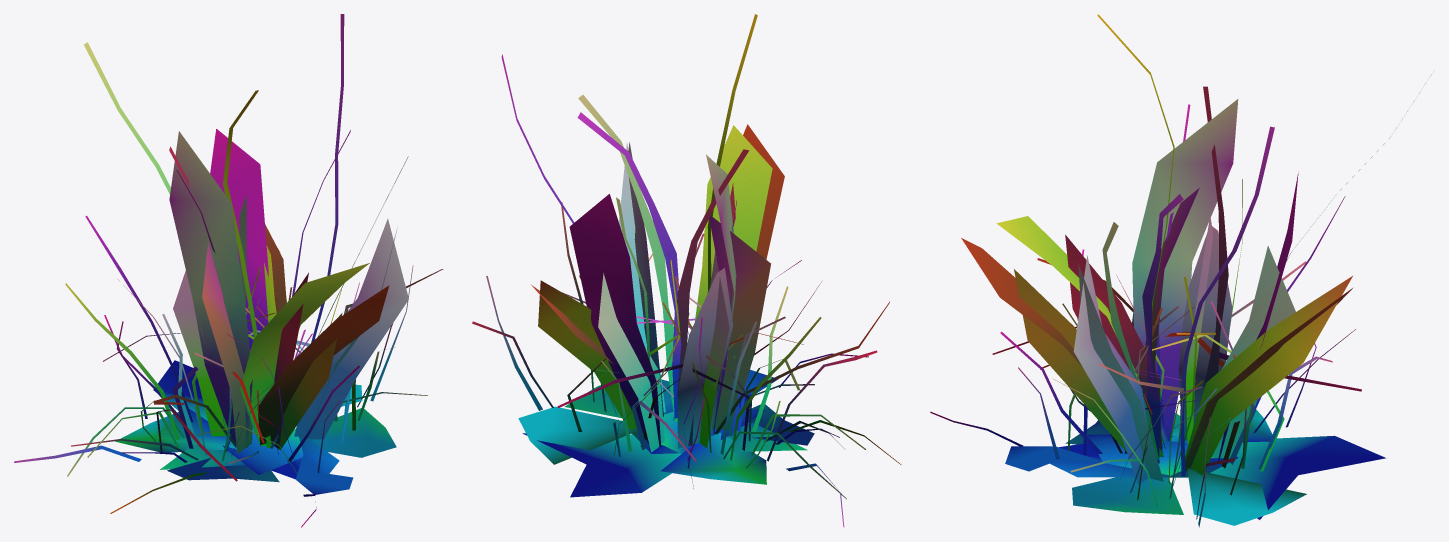
The model's file is uddmcgbia_VarJ_LOD0.fbx.
3 renders of one model, left to right at view 1: azimuth 30°, elevation 25°; view 2: azimuth 150°, elevation 25°; view 3: azimuth 270°, elevation 25°, orthographic. The views are drawn at different scales.
Visible parts, largest first — view 1: _4b66_VarJ_LOD1; view 2: _4b66_VarJ_LOD1; view 3: _4b66_VarJ_LOD1.
Part boxes in pixels (x1=…): _4b66_VarJ_LOD1: x1=14, y1=14, x2=443, y2=527; _4b66_VarJ_LOD1: x1=472, y1=14, x2=901, y2=527; _4b66_VarJ_LOD1: x1=930, y1=14, x2=1431, y2=527.
Size of the model in its own units: 23.36 by 23.53 by 24.7.
